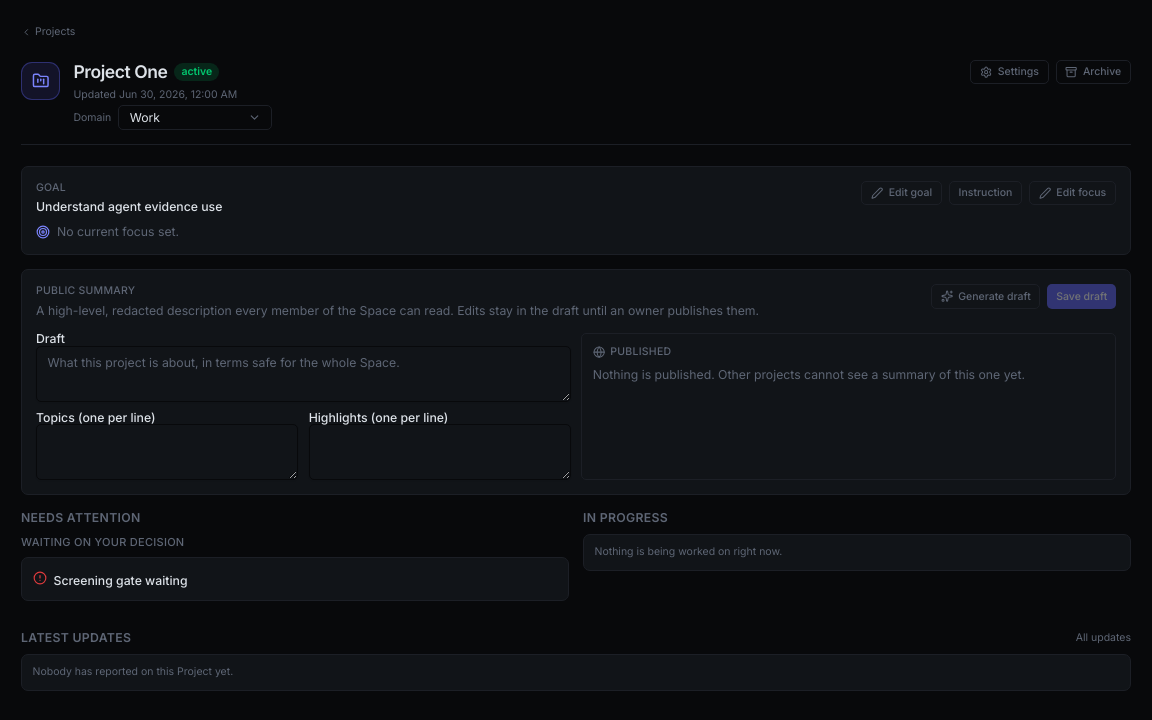
Test: ProjectDetailPage (Pulse) › files a writable Project in a Domain from its own page
The image size is (1152, 720).
Click the button with aria-label "Domain" at (195,118), box [118,105,272,130]
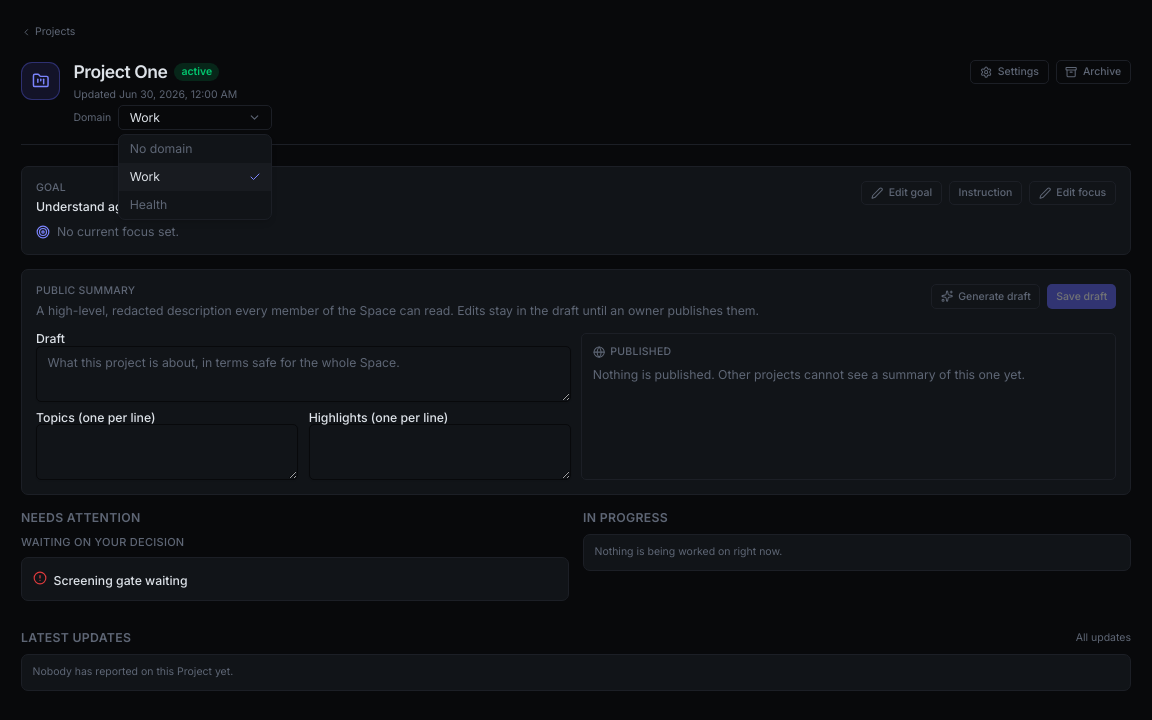
Click the option "Health" at (195,205), box [119,191,271,219]
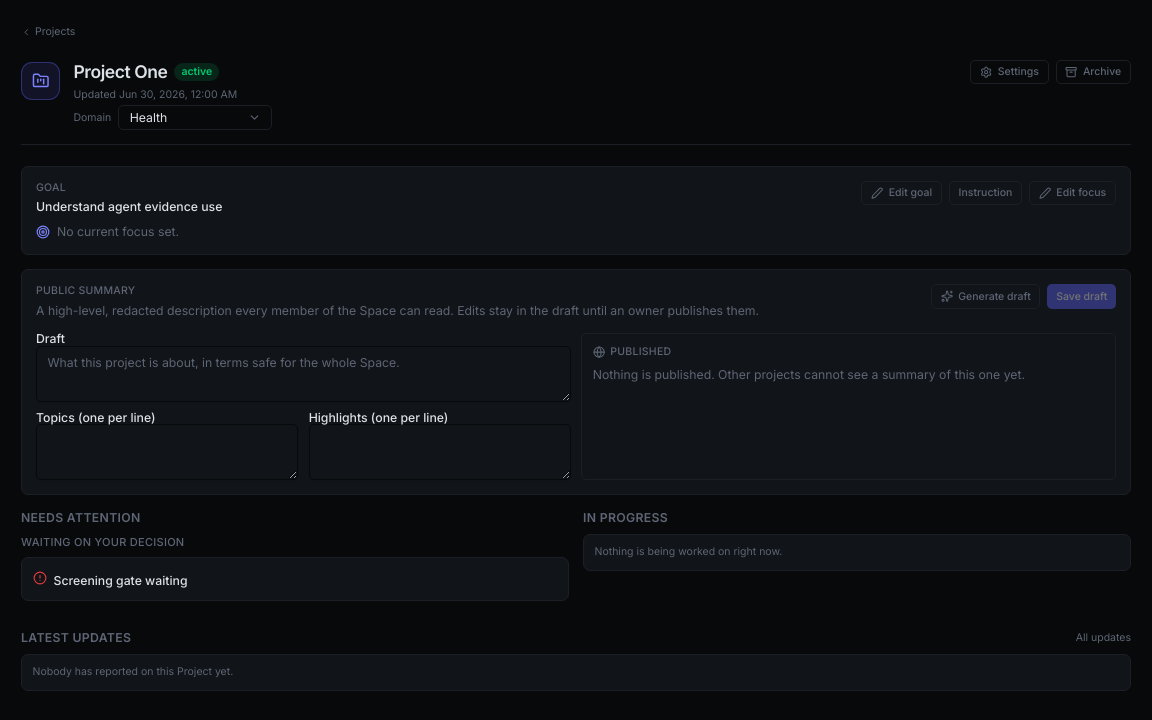
Result: the button with aria-label "Domain" reads "Health" at [118,105,272,130]
